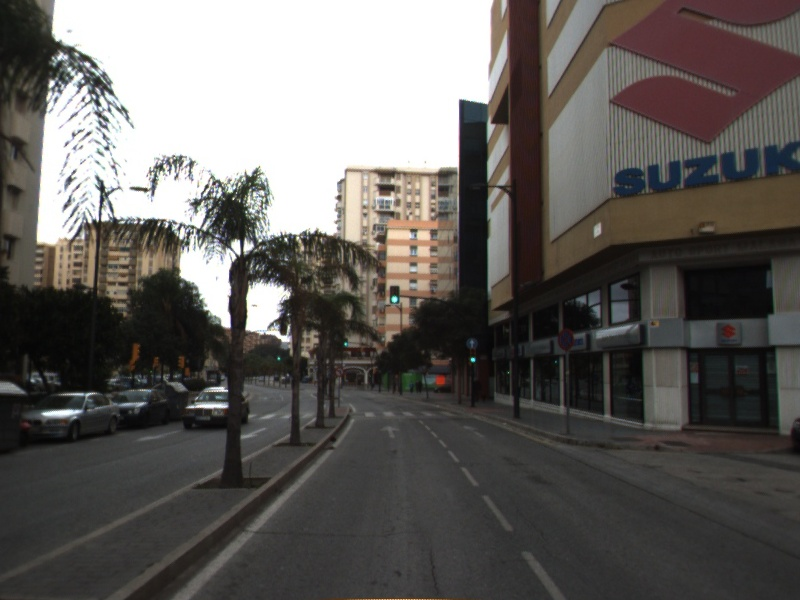STRAIGHT: (377, 423, 404, 440), (461, 423, 488, 440)
